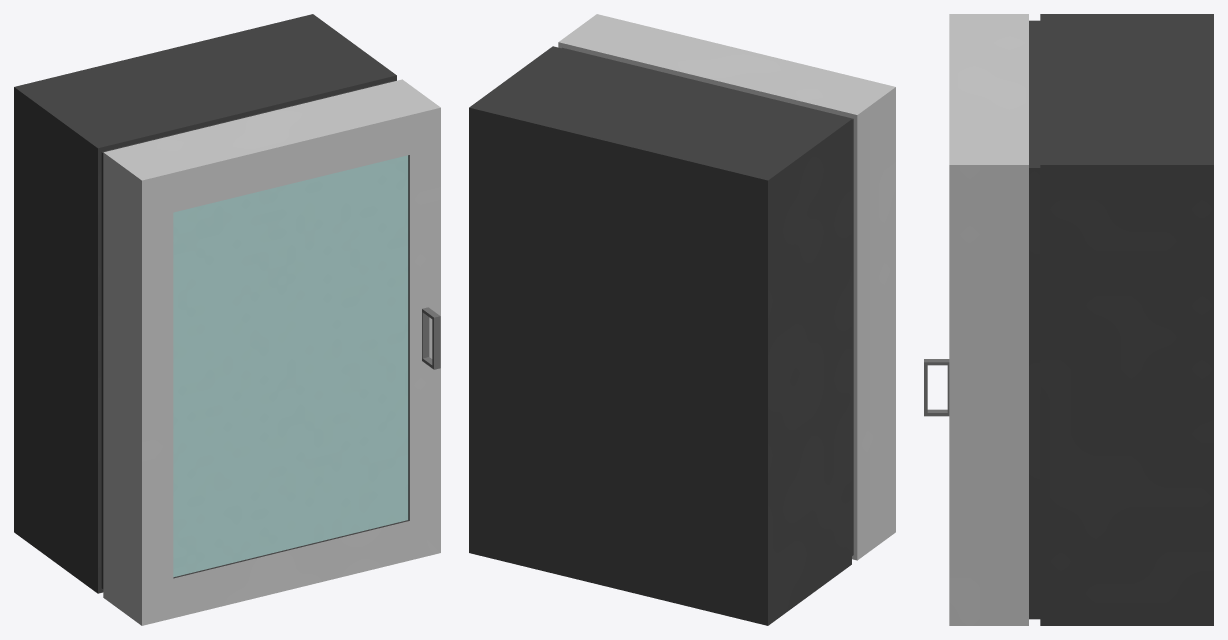
File: Mirror_03_01.fbx
3 views of the same model, side by side, from view 1: azimuth 30°, elevation 25°; view 2: azimuth 150°, elevation 25°; view 3: azimuth 270°, elevation 25° (orthographic). The views are drawn at different scales.
Parts seen in each view (by area): view 1: Mirror_03_01; view 2: Mirror_03_01; view 3: Mirror_03_01.
Part boxes in pixels (x1=…): Mirror_03_01: x1=14, y1=14, x2=440, y2=625; Mirror_03_01: x1=469, y1=14, x2=895, y2=625; Mirror_03_01: x1=924, y1=14, x2=1213, y2=625.
Size of the model in its own units: 0.7629 by 1.09 by 0.6188.
